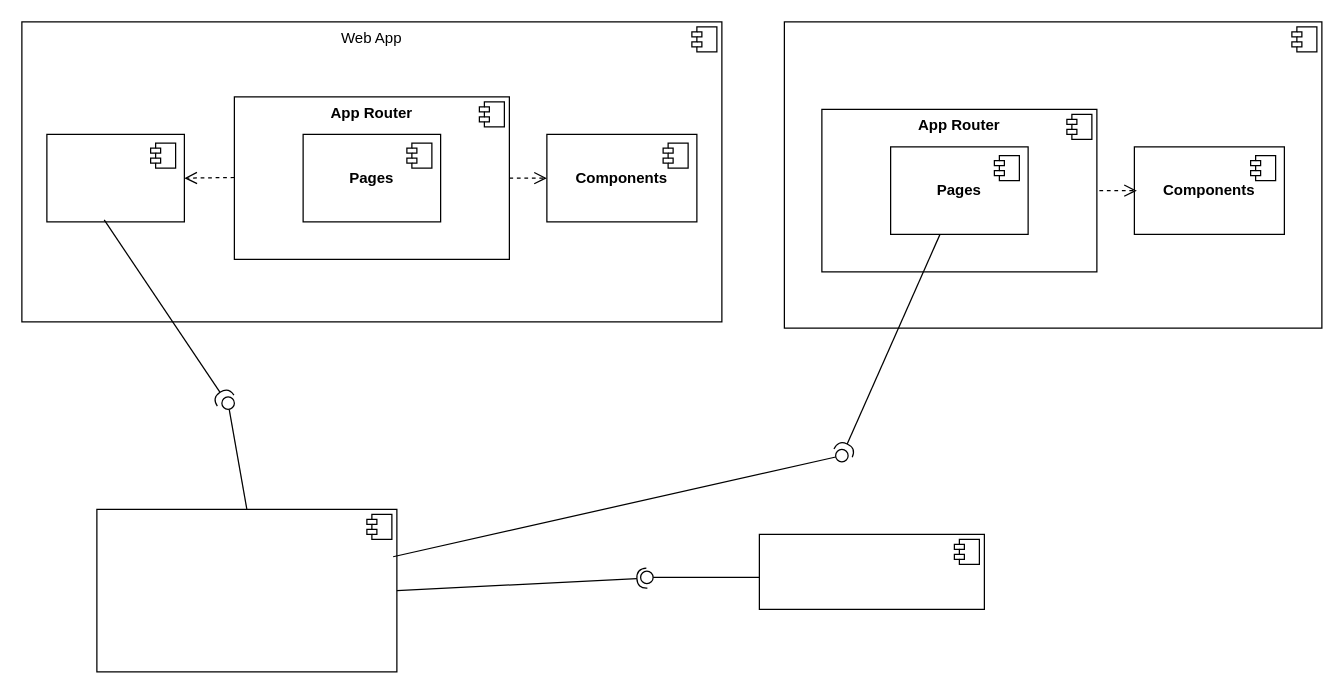
Image size: 1344x694. Some labels were removed from this diagram. Each missing label, with the box of its shape:
Actions: (46, 133, 184, 222)
Mobile App: (783, 21, 1322, 328)
Stripe: (758, 533, 984, 609)
Supabase: (96, 508, 397, 672)
